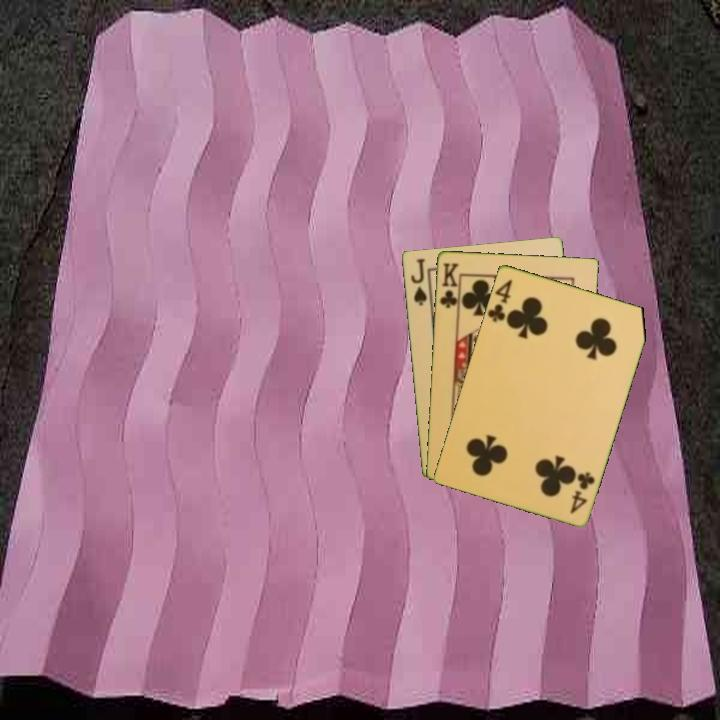4c: (484, 275, 515, 325), (566, 468, 598, 516)
Js: (407, 255, 429, 308)
Kc: (436, 259, 462, 313)
